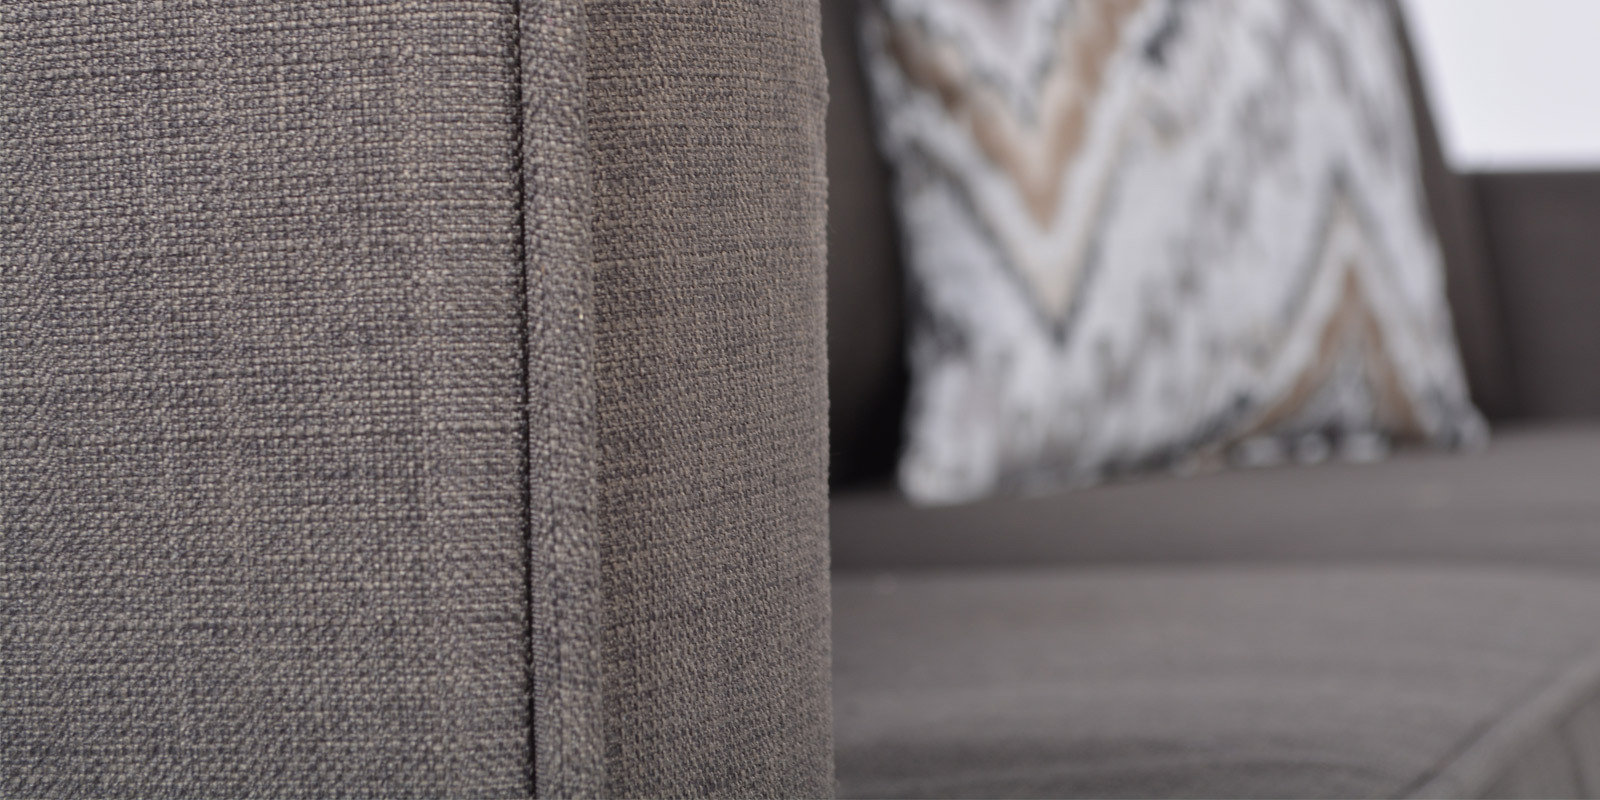Ithaca Impulse Three Seater Sofa with Throw Cushions in Charcoal Grey Colour by: (6, 8, 1478, 800)
